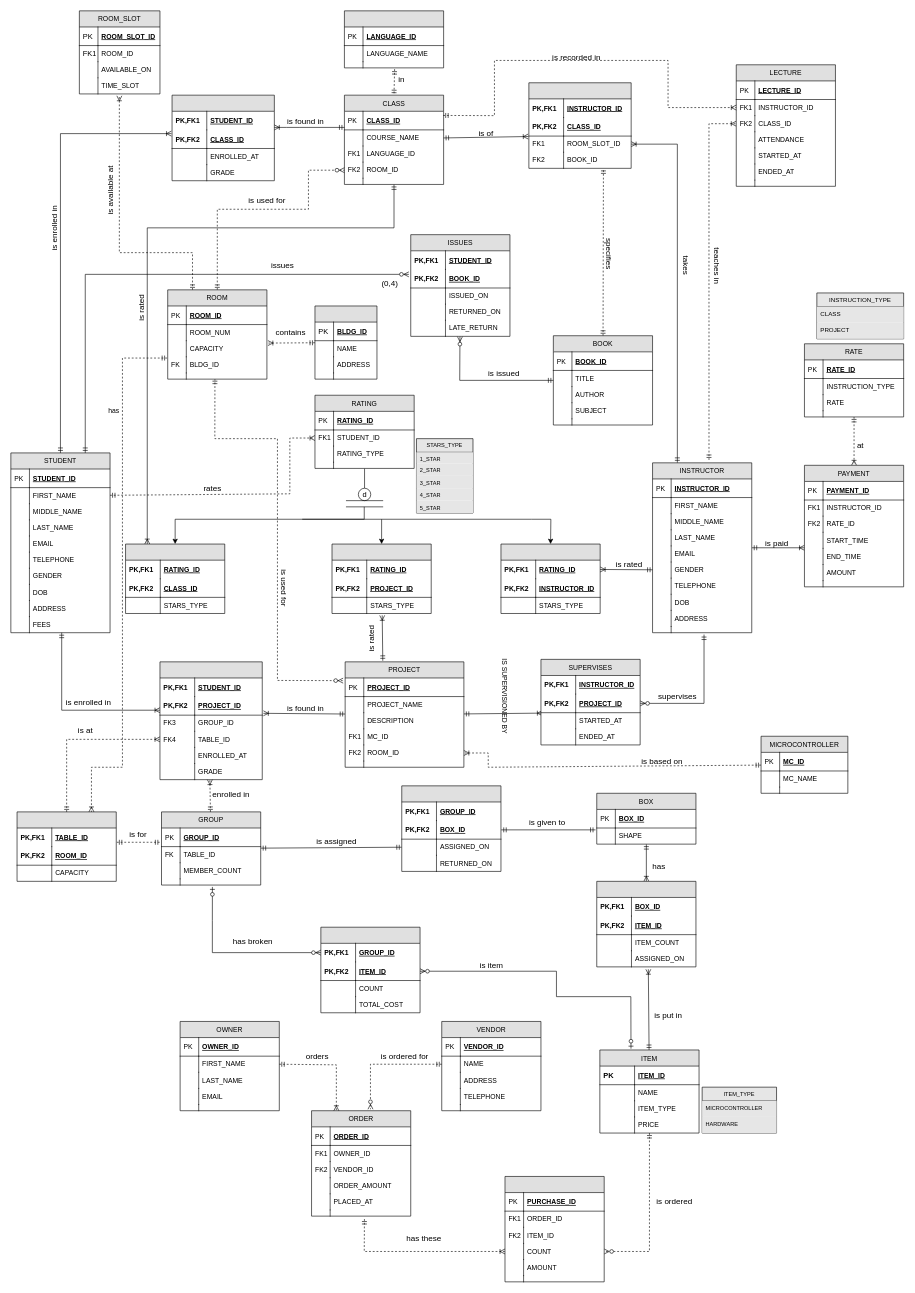
This 915x1293 diagram has some shape labels left out. Each missing label, with the box of its shape:
BOX_ASSIGNMENT: (401, 785, 501, 871)
BROKEN_ITEMS: (320, 927, 420, 1013)
BUILDING: (314, 305, 377, 379)
CLASS_ENROLLMENT: (171, 95, 274, 181)
CLASS_RATING: (125, 543, 225, 613)
CODING_LANGUAGE: (344, 10, 444, 68)
INSTRUCTOR_RATING: (500, 543, 600, 613)
ITEM_ASSIGNMENT: (596, 881, 696, 967)
PROJECT_ENROLLMENT: (159, 661, 262, 780)
PROJECT_RATING: (331, 543, 431, 613)
PURCHASES: (504, 1176, 604, 1282)
TABLE_INFO: (16, 811, 116, 881)
TEACHES: (528, 82, 631, 168)
